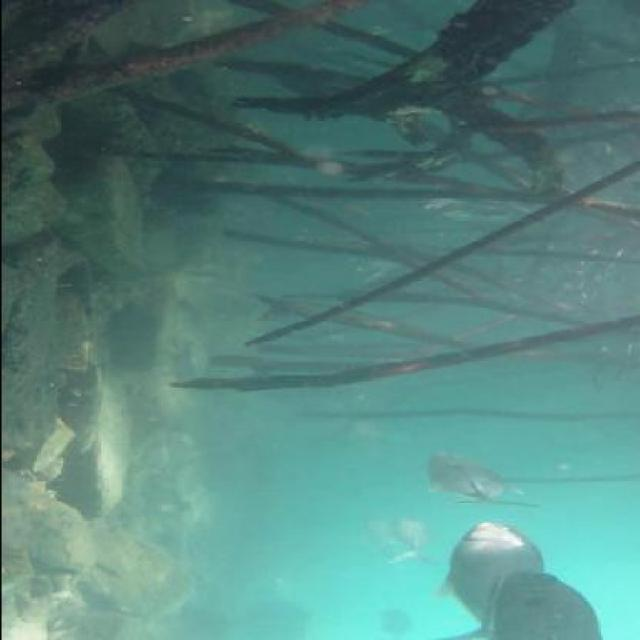Caranx_sexfasciatus_juvenile: (427, 520, 555, 640), (479, 569, 610, 640), (414, 450, 548, 513), (354, 504, 406, 565), (389, 513, 438, 576)
